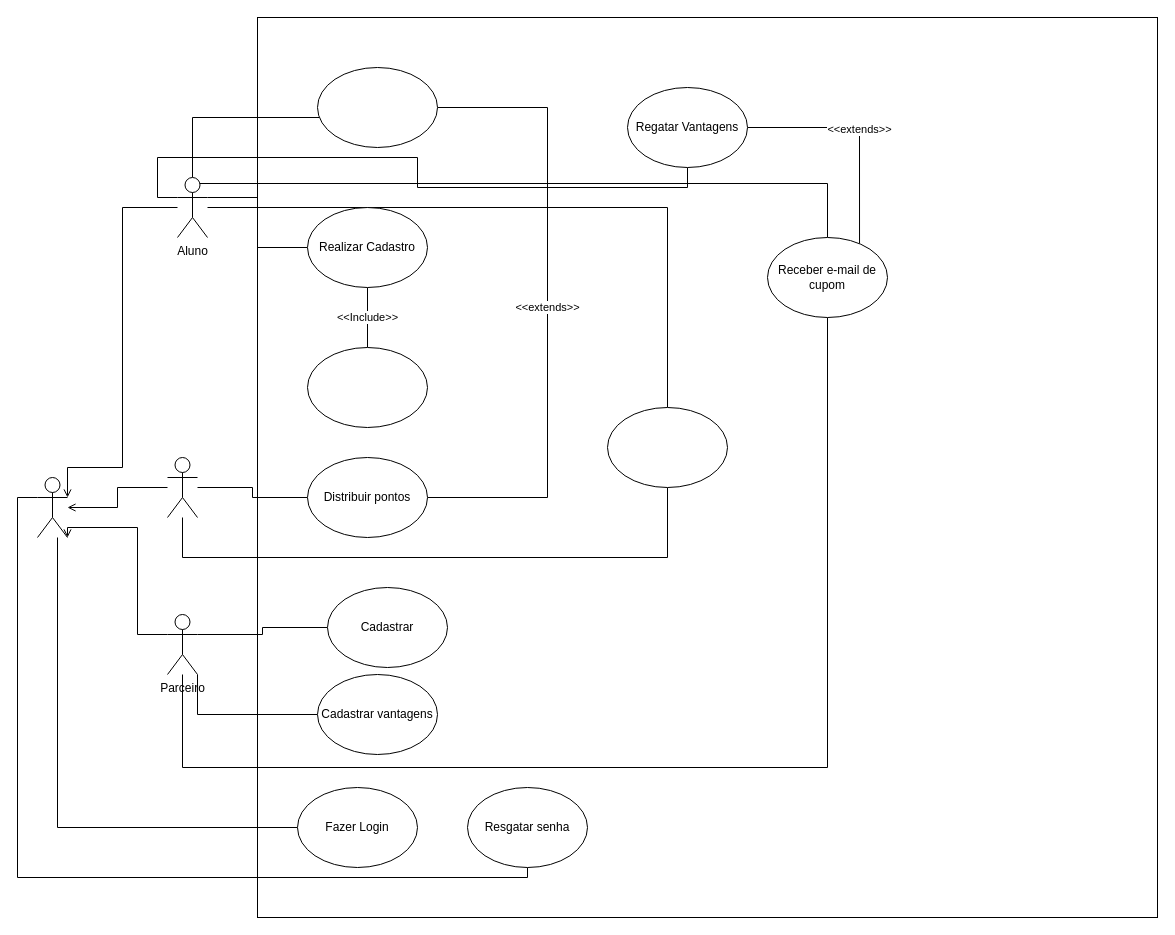
The diagram is 1175 pixels wide and 935 high, and some of its shapes have lost their labels. The shapes that lost their labels are listed below. From the top down, each one's box as (x1, y1, x2, y2) in pixels, then its label:
(316, 66, 438, 148): Notificar aluno pelo recebimento de moedas
(306, 346, 428, 428): Selecionar Instituição
(606, 406, 728, 488): Visualizar extrato
(36, 476, 68, 538): Usuario
(166, 456, 198, 518): Professor
